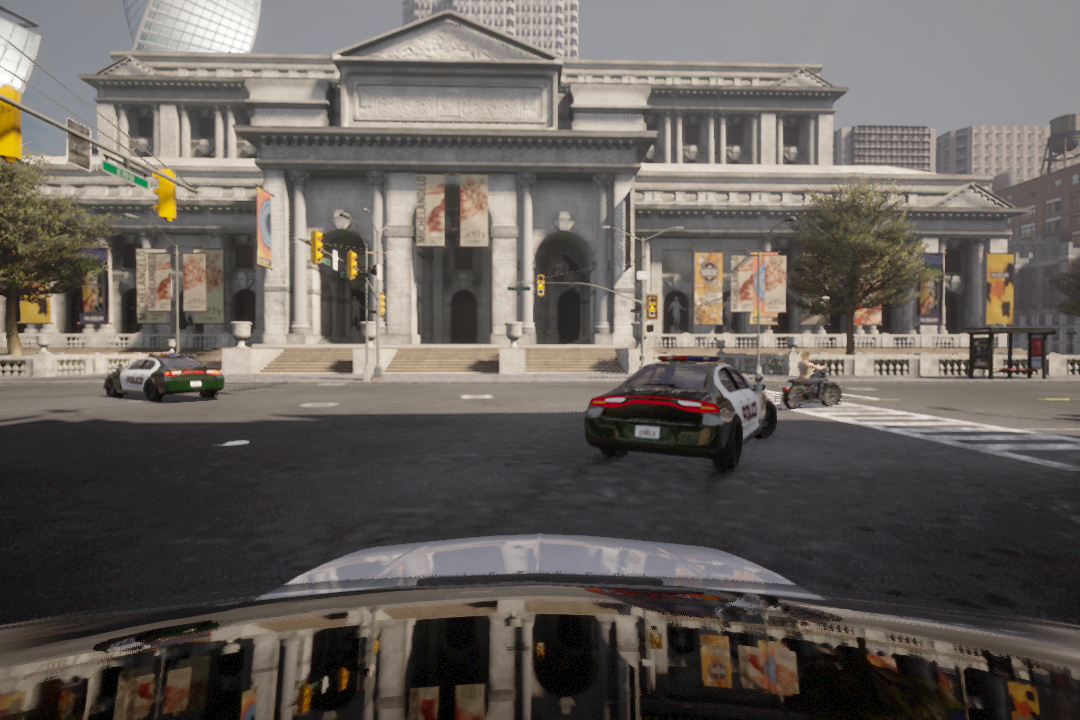TrafficLight: (645, 295, 657, 321), (534, 273, 544, 297)
walkside: (733, 383, 1080, 485)
